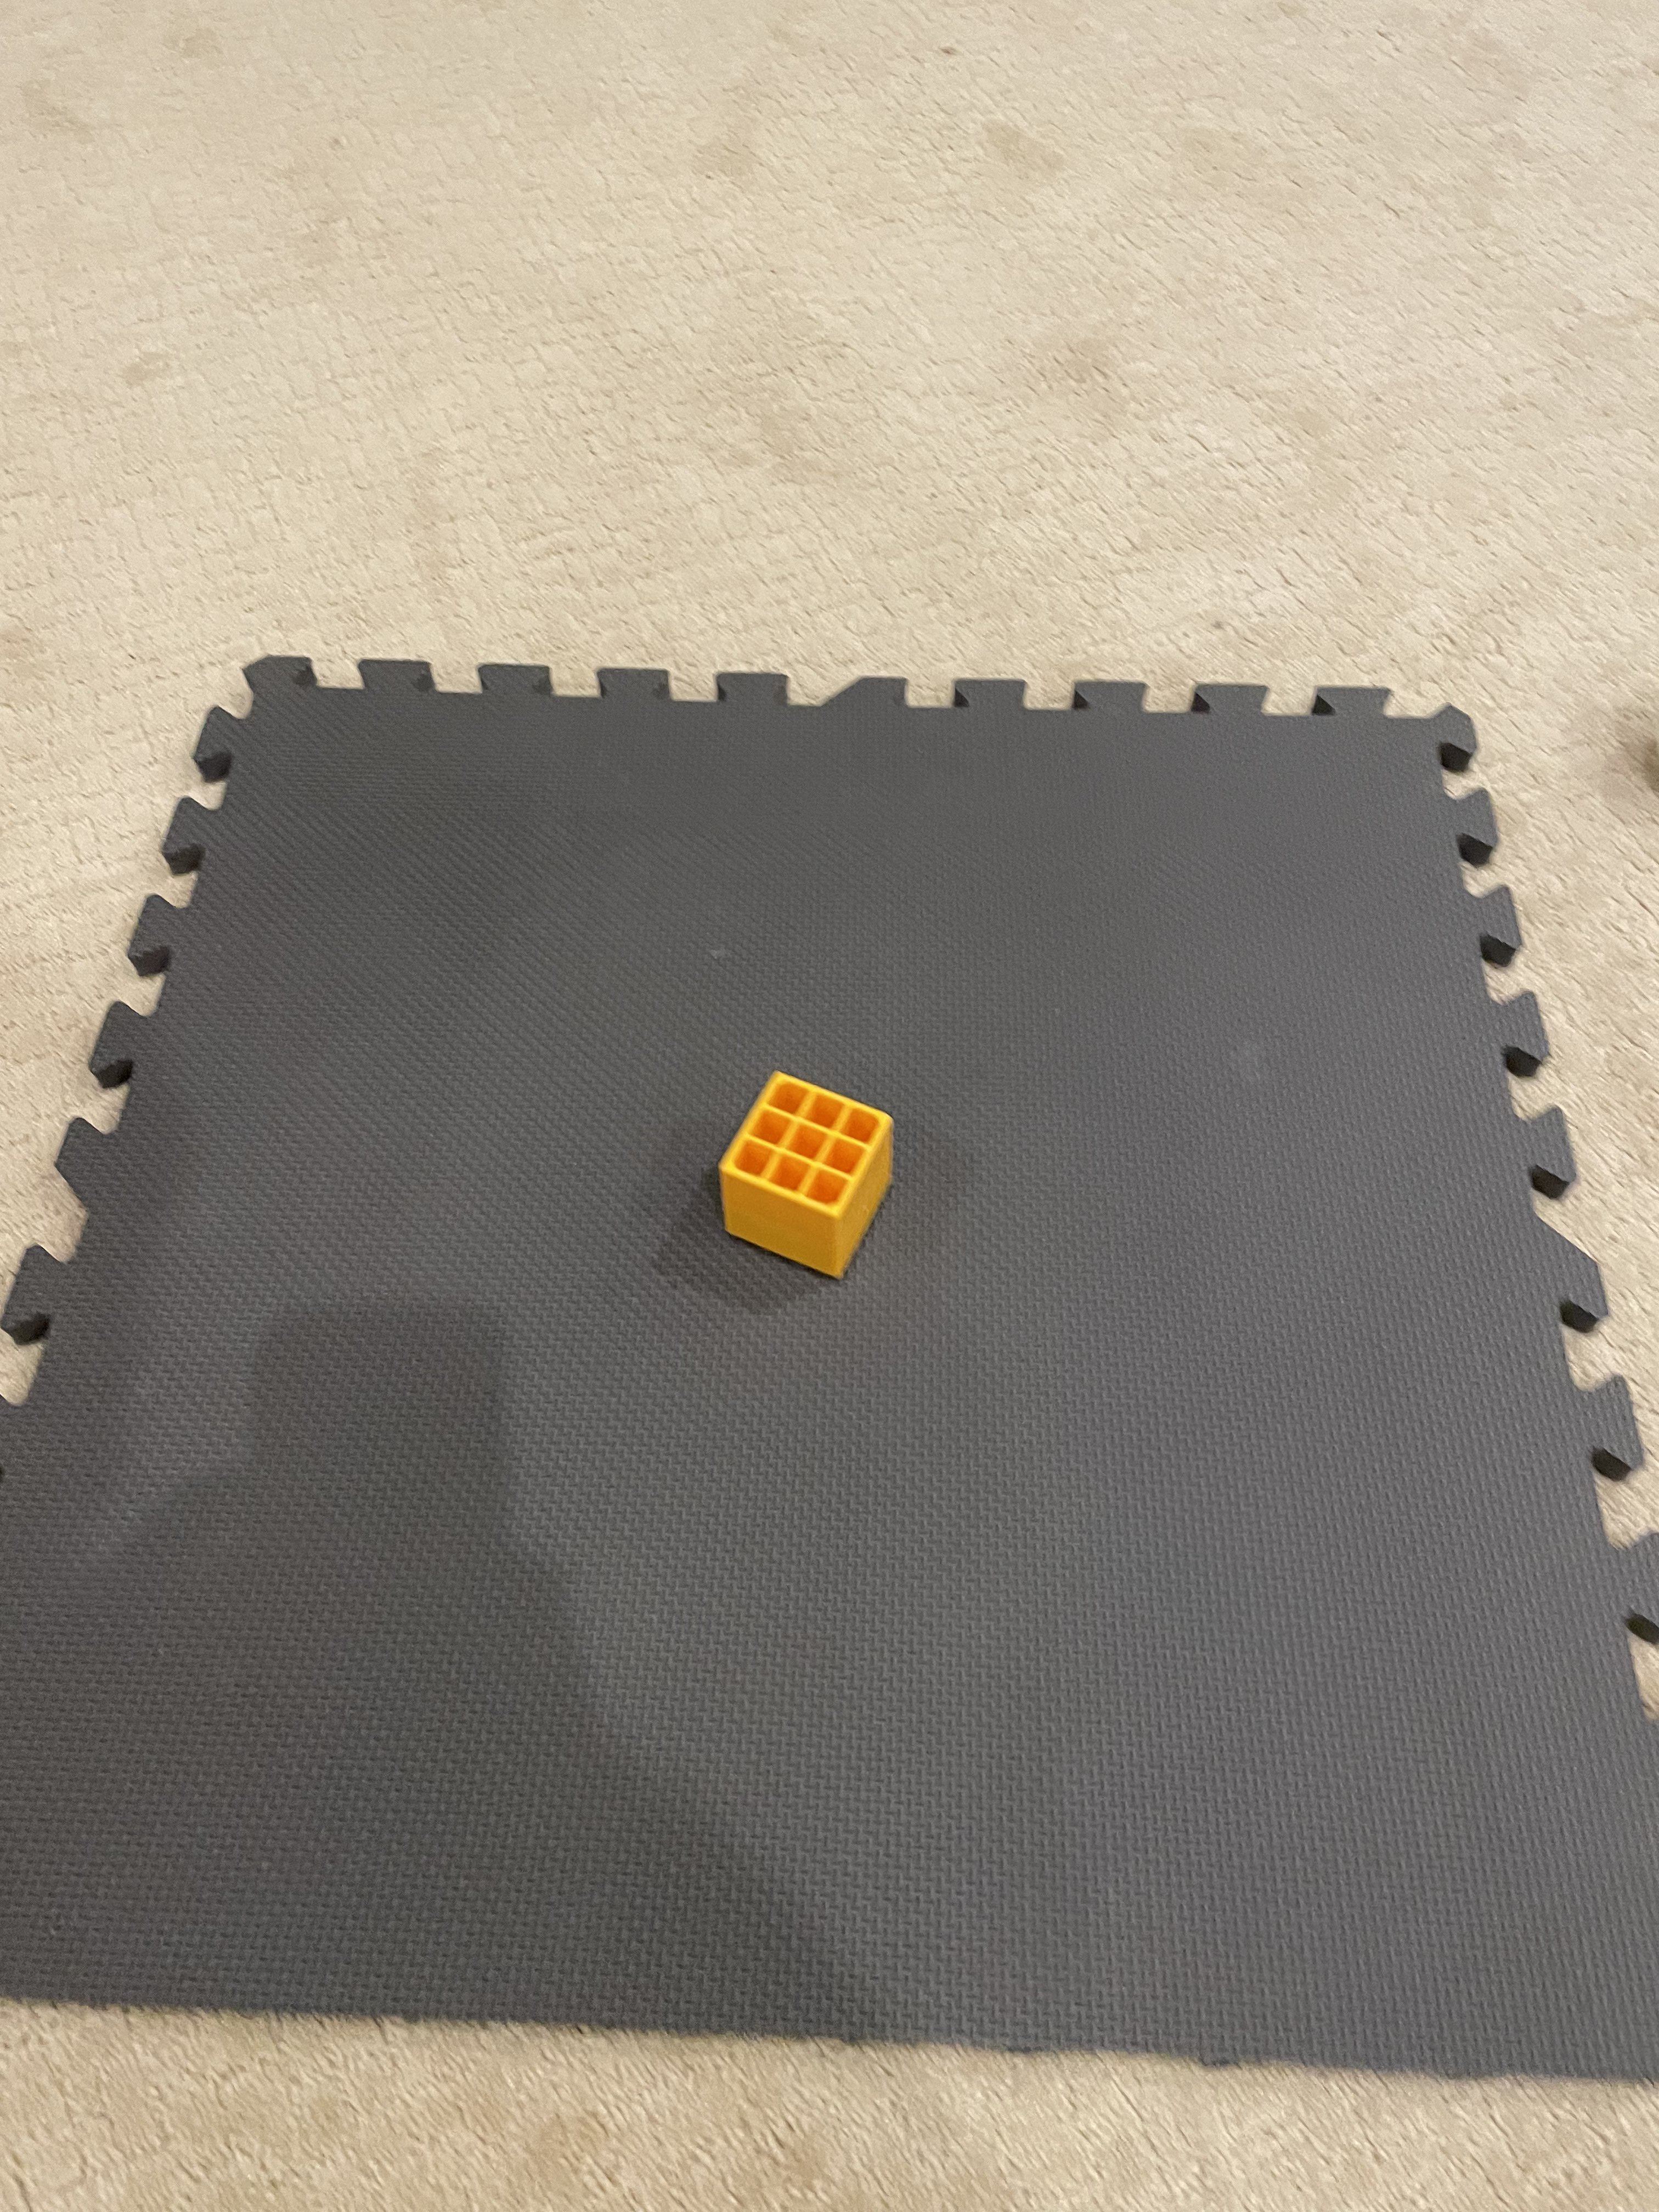cube: (657, 1028, 971, 1308)
